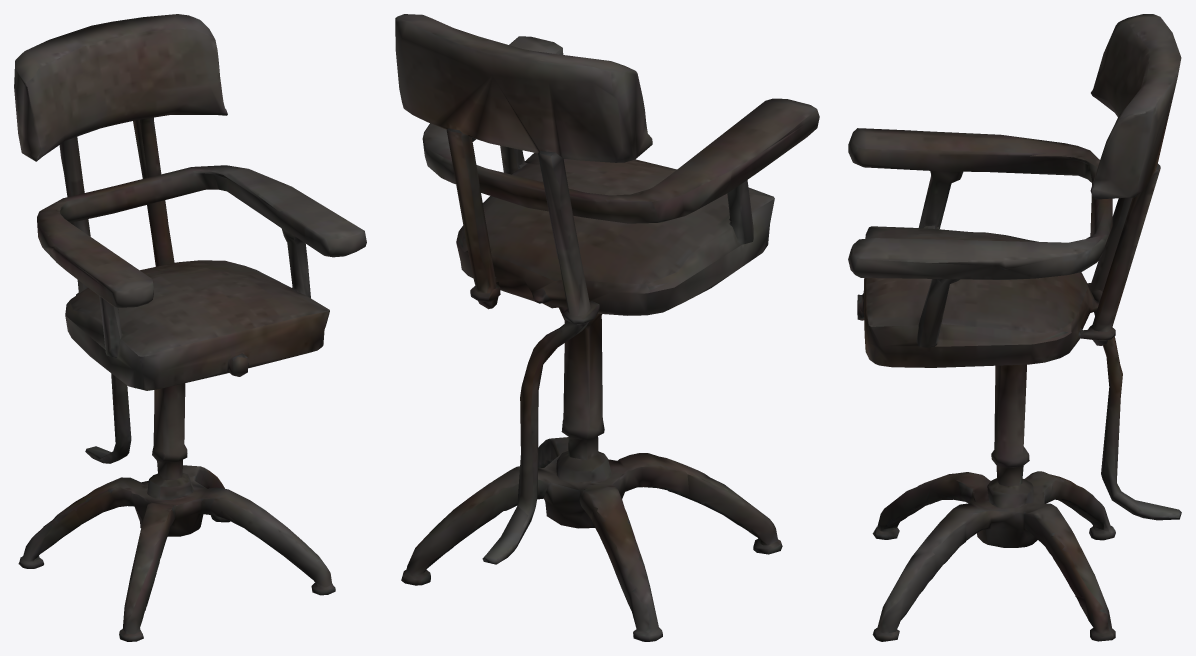
The model's file is rustic-iron-examination-chair-v001.glb.
3 renders of one model, left to right at view 1: azimuth 30°, elevation 25°; view 2: azimuth 150°, elevation 25°; view 3: azimuth 270°, elevation 25°, orthographic. The views are drawn at different scales.
Visible parts, largest first — view 1: rustic-iron-examination-chair; view 2: rustic-iron-examination-chair; view 3: rustic-iron-examination-chair.
Boxes of the visible parts, x1=… form: rustic-iron-examination-chair: x1=14, y1=14, x2=366, y2=641; rustic-iron-examination-chair: x1=395, y1=14, x2=819, y2=641; rustic-iron-examination-chair: x1=848, y1=14, x2=1181, y2=641.
Bounding box in the file's own units: 0.697 × 1.31 × 0.7455.
1 material, 1 textured.
